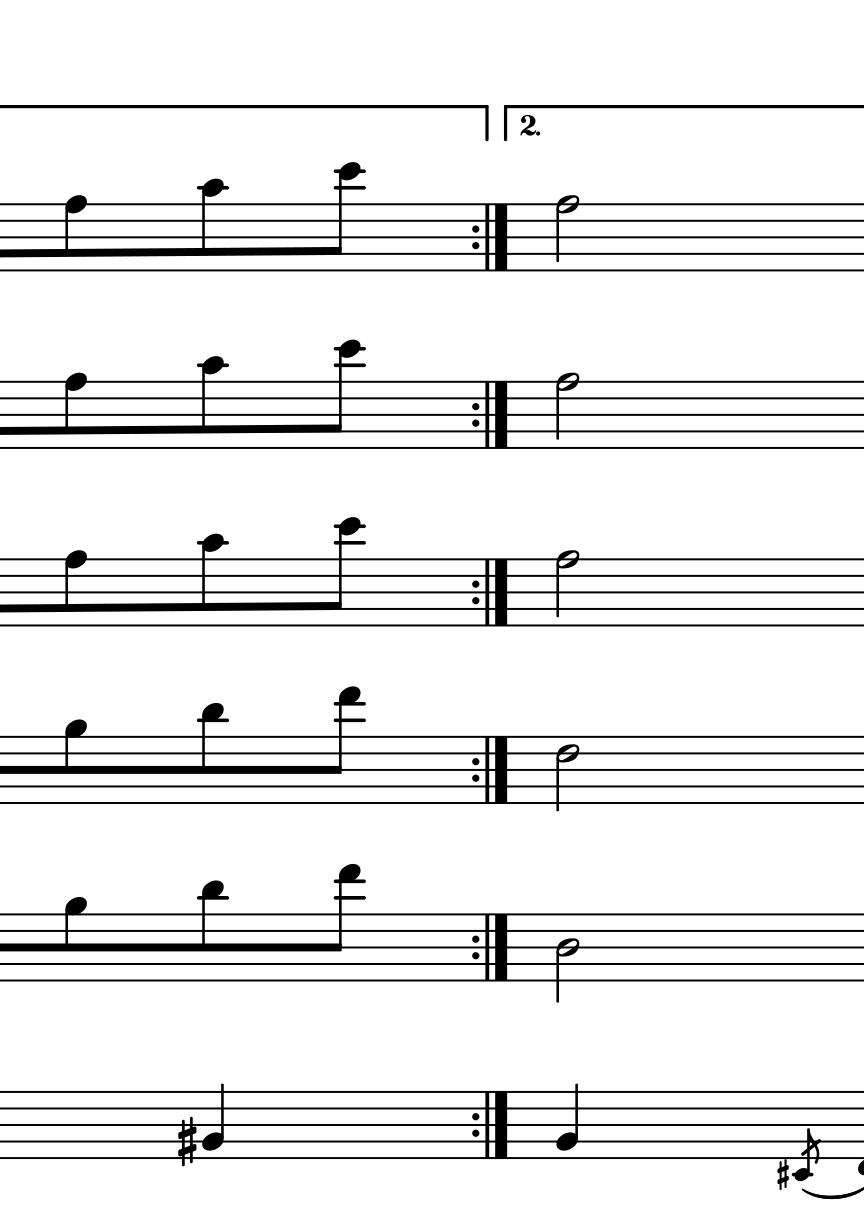2_4: (554, 911, 580, 1004)
2_6: (556, 735, 584, 815)
2_8: (553, 549, 583, 628), (553, 370, 582, 450), (555, 194, 582, 273)
4_2: (556, 1082, 583, 1159), (203, 1083, 227, 1159)
8_10: (198, 531, 227, 628), (201, 353, 228, 451), (200, 177, 227, 274)
8_11: (198, 702, 229, 805), (197, 880, 227, 983)
8_12: (323, 339, 365, 451), (322, 515, 362, 629), (325, 161, 362, 274)
8_13: (326, 685, 363, 806), (330, 863, 365, 982)
8_8: (63, 371, 89, 451), (63, 193, 88, 274), (64, 550, 87, 628)
8_9: (64, 895, 90, 981), (63, 719, 88, 807)
Acciaccature: (792, 1090, 821, 1184)
RightRepeatSign: (470, 201, 517, 270), (467, 1090, 510, 1162), (468, 912, 511, 982), (471, 379, 514, 447), (468, 558, 511, 625), (468, 736, 509, 805)
Sharp: (175, 1115, 198, 1166), (775, 1158, 792, 1191)
